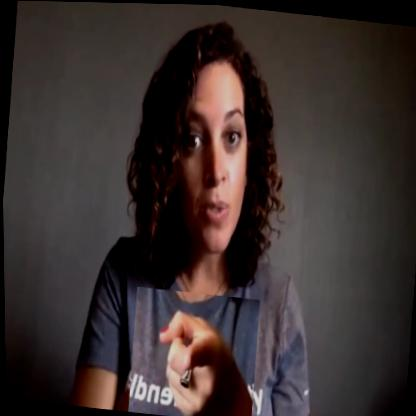HowAreYou: (125, 286, 261, 416)
